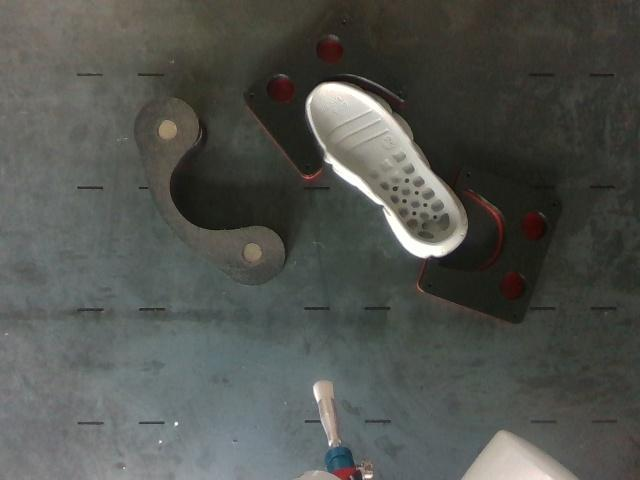shoes: (310, 83, 461, 246)
